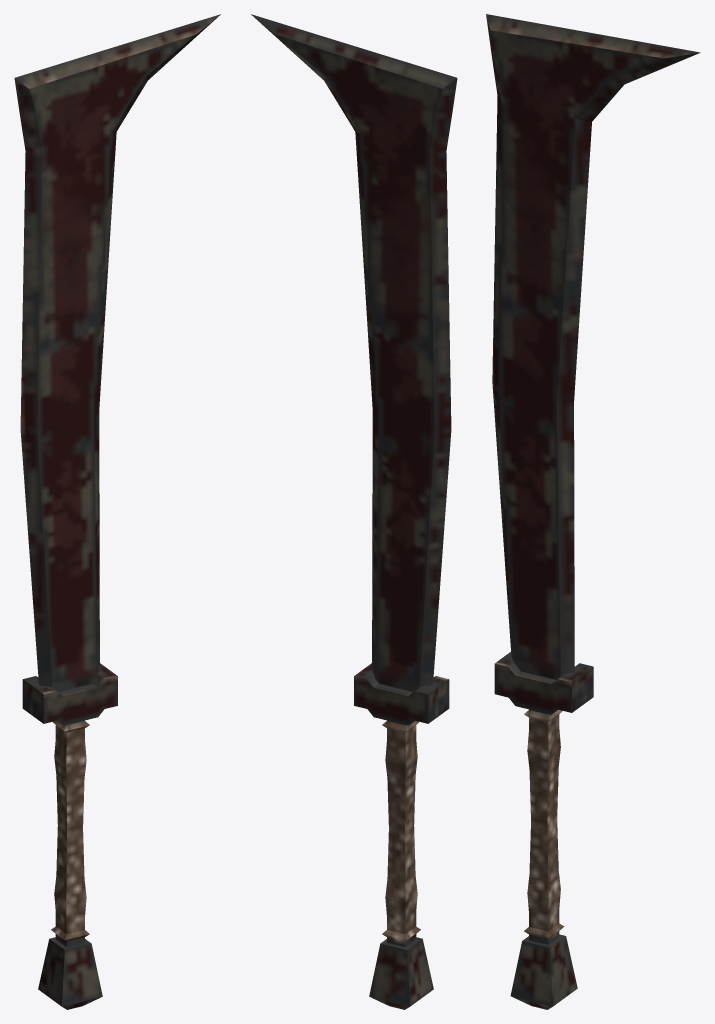
File: Sword_03.fbx
3 renders of one model, left to right at view 1: azimuth 30°, elevation 25°; view 2: azimuth 150°, elevation 25°; view 3: azimuth 330°, elevation 25°, orthographic. The views are drawn at different scales.
Parts seen in each view (by area): view 1: Sword_03; view 2: Sword_03; view 3: Sword_03.
Part boxes in pixels (left/top/right/bottom): Sword_03: left=14, top=14, right=220, bottom=1009; Sword_03: left=251, top=14, right=457, bottom=1009; Sword_03: left=486, top=14, right=700, bottom=1009.
Bounding box in the file's own units: 22.43 × 98.72 × 4.45.
Materials: 1 (1 with a texture image).
